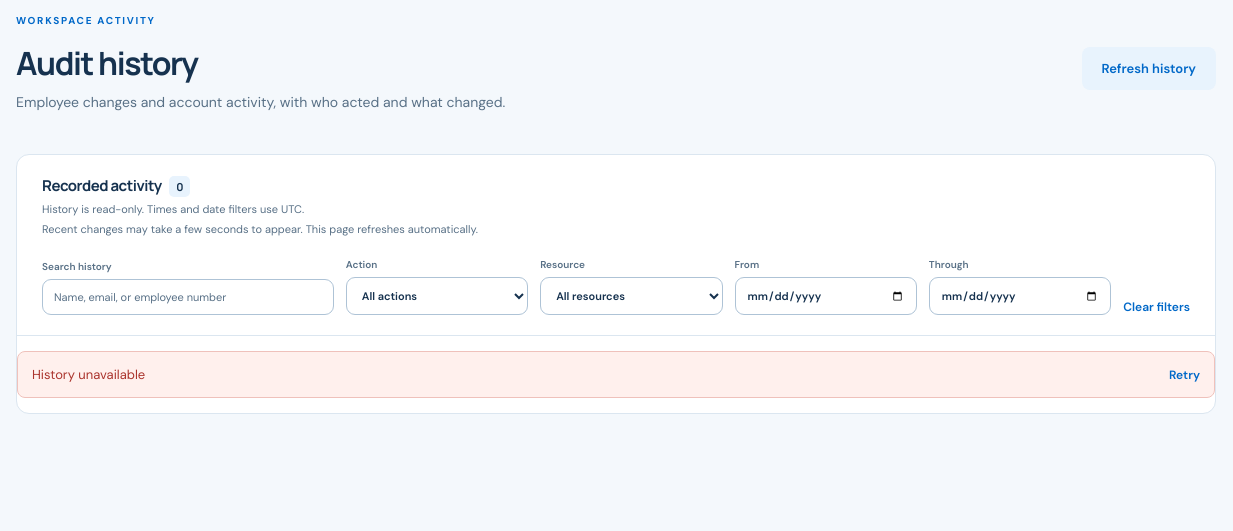
Test: failed history reads show an error and can be retried
Expected: the message shows "History unavailable", x1=32 y1=366 x2=145 y2=383
Click the button "Retry" at (1184, 375), box x1=1169 y1=367 x2=1200 y2=383
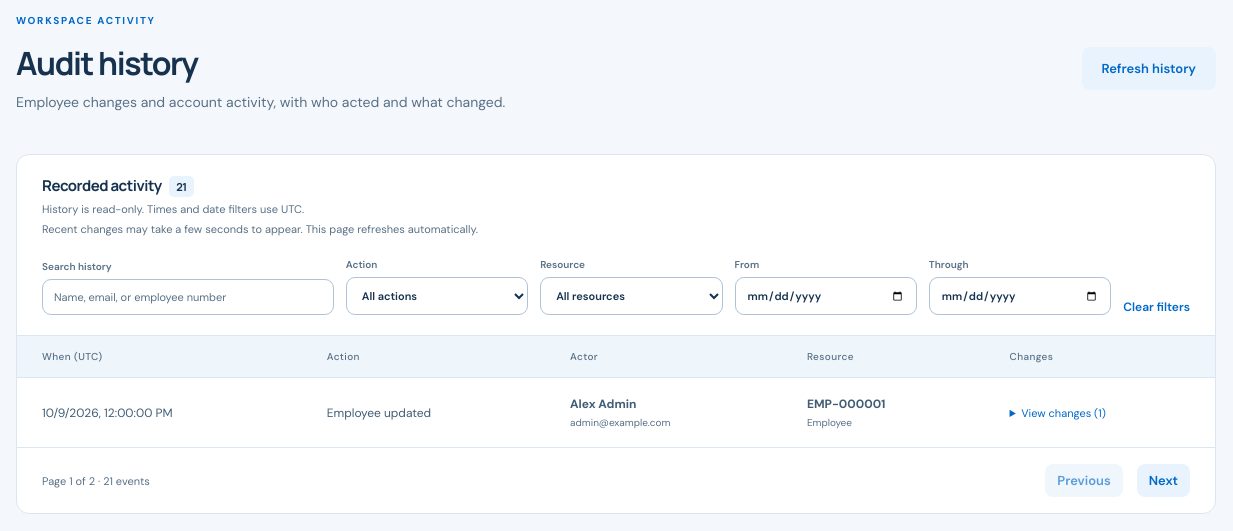
Now the cell "Employee updated" is shown, box x1=302 y1=378 x2=545 y2=447
